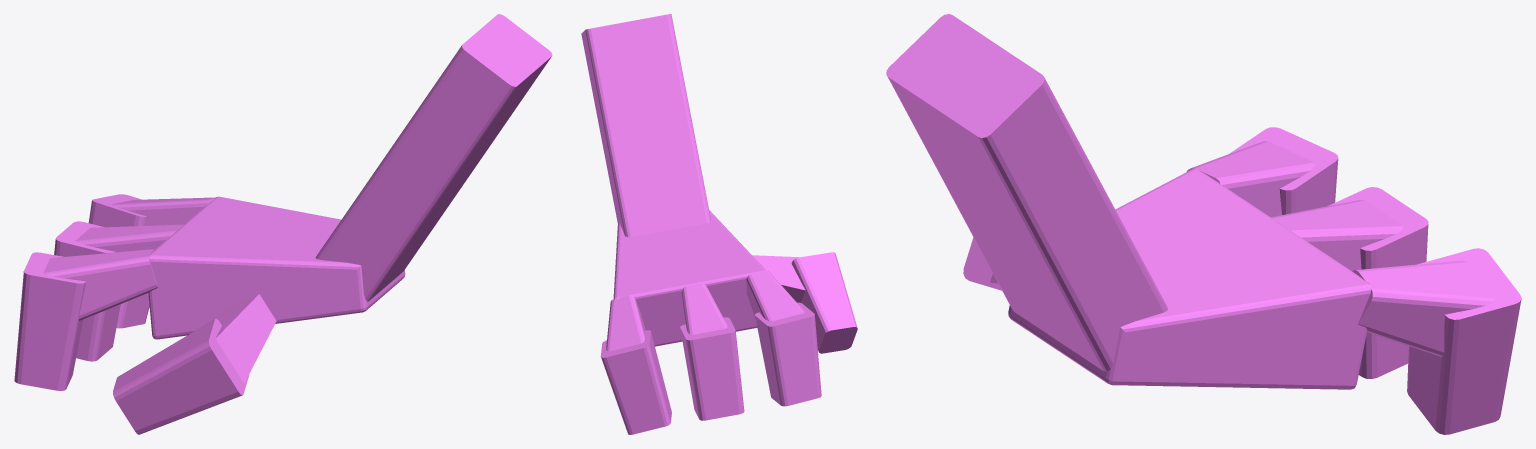
Rendered from RightHand.fbx.
3 renders of one model, left to right at view 1: azimuth 30°, elevation 25°; view 2: azimuth 150°, elevation 25°; view 3: azimuth 270°, elevation 25°, orthographic. The views are drawn at different scales.
Visible parts, largest first — view 1: RightHand; view 2: RightHand; view 3: RightHand.
Boxes of the visible parts, x1,y1,x2,y2 form: RightHand: (14,14,552,434); RightHand: (581,14,857,434); RightHand: (886,14,1521,434).
Size of the model in its own units: 836 by 707 by 802.
